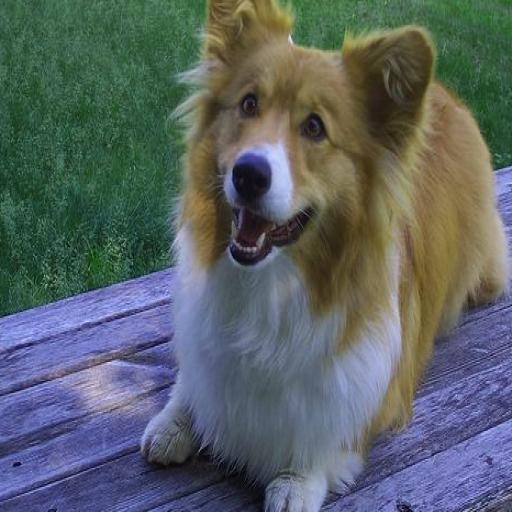dog_face: (203, 0, 430, 287)
